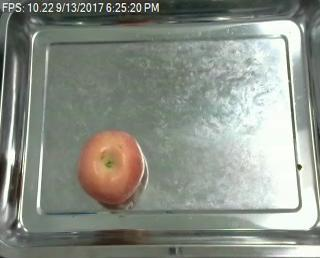apple: (77, 130, 145, 204)
